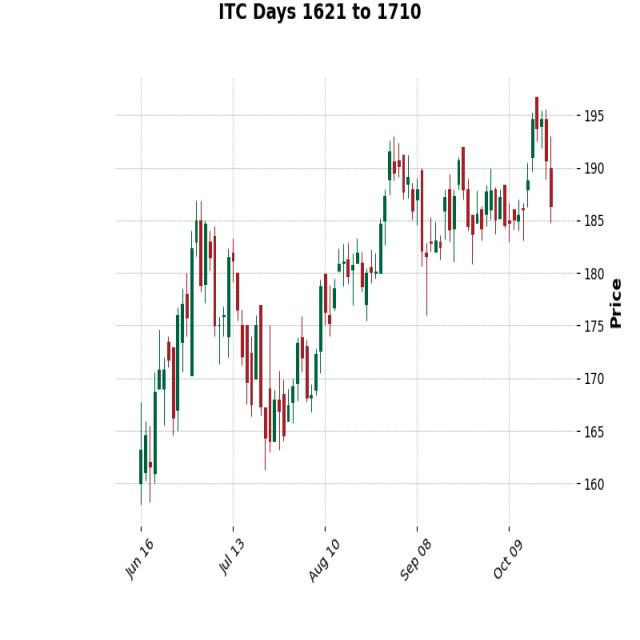Triple Bottom Reversal: (126, 199, 350, 507)
